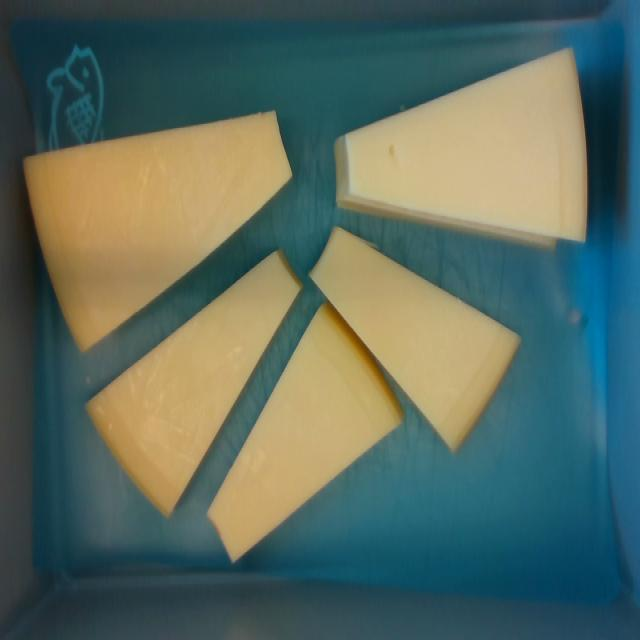Cheese: (26, 112, 291, 349), (88, 252, 299, 513), (206, 309, 401, 563), (310, 225, 521, 451), (344, 48, 587, 241)
